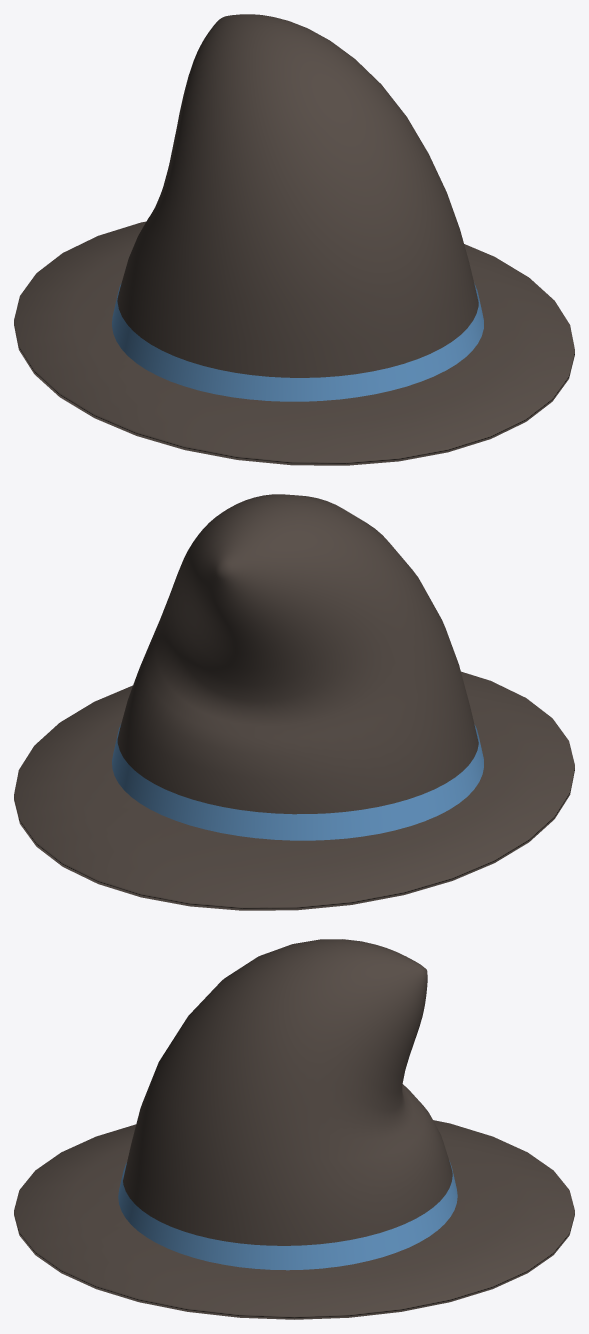
The model's file is WitchHat(1).glb.
The picture shows the model from 3 angles, top to bottom: view 1: azimuth 30°, elevation 25°; view 2: azimuth 150°, elevation 25°; view 3: azimuth 270°, elevation 25°; orthographic projection. The views are drawn at different scales.
Parts seen in each view (by area): view 1: Cylinder, Cylinder.001, Cylinder.002; view 2: Cylinder, Cylinder.001, Cylinder.002; view 3: Cylinder, Cylinder.001, Cylinder.002.
Boxes of the visible parts, bbox=[...] form: Cylinder: bbox=[117, 14, 478, 377]; Cylinder.001: bbox=[14, 221, 574, 465]; Cylinder.002: bbox=[112, 283, 483, 401]; Cylinder: bbox=[117, 494, 478, 814]; Cylinder.001: bbox=[14, 671, 574, 910]; Cylinder.002: bbox=[112, 724, 483, 840]; Cylinder: bbox=[123, 939, 452, 1245]; Cylinder.001: bbox=[14, 1120, 574, 1319]; Cylinder.002: bbox=[118, 1160, 457, 1270].
Bounding box in the file's own units: 2.87 × 1.72 × 3.25.
